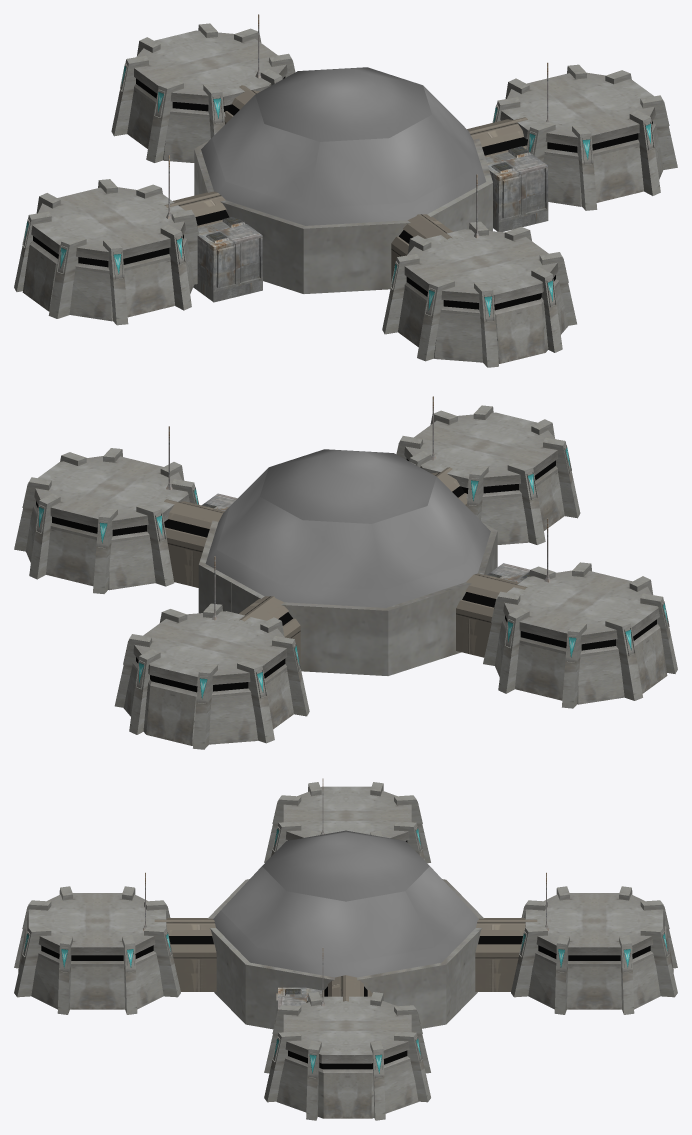
The model's file is village.dae.
3 views of the same model, one above another, from view 1: azimuth 30°, elevation 25°; view 2: azimuth 150°, elevation 25°; view 3: azimuth 270°, elevation 25° (orthographic). The views are drawn at different scales.
Parts seen in each view (by area): view 1: village; view 2: village; view 3: village.
Part boxes in pixels (x1=…): village: x1=14, y1=14, x2=677, y2=367; village: x1=14, y1=396, x2=677, y2=749; village: x1=14, y1=778, x2=677, y2=1120.
Bounding box in the file's own units: 53.2 × 53.2 × 12.47.
